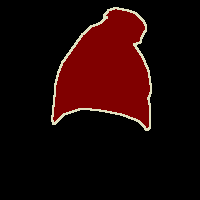hat: (52, 8, 151, 130)
